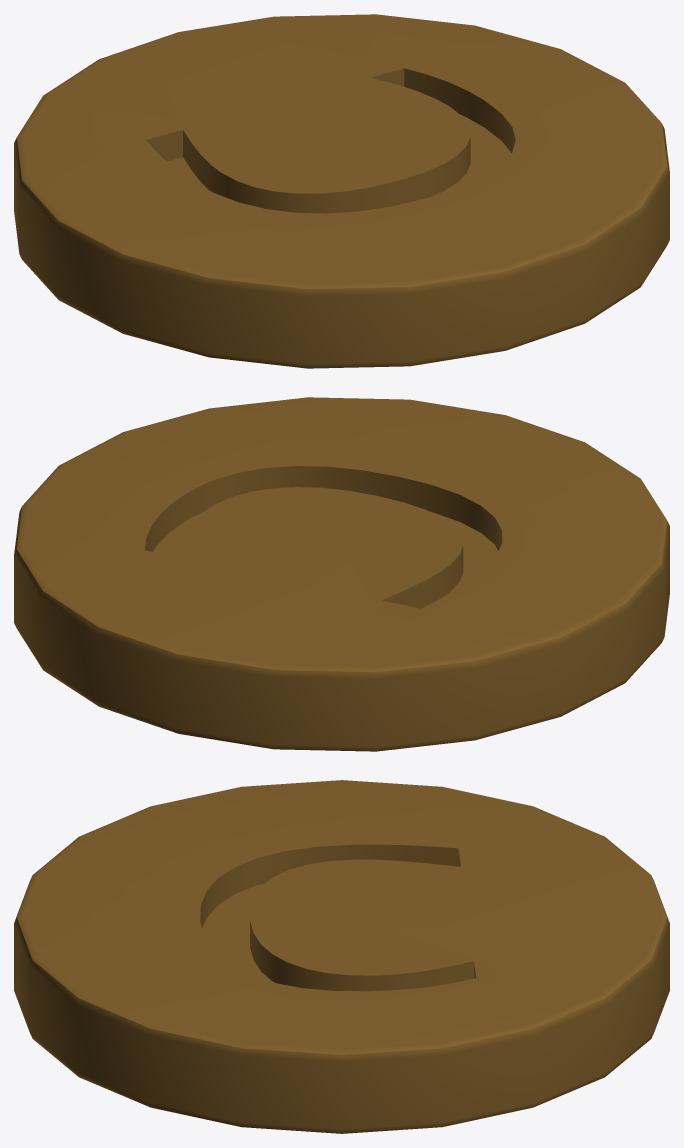
The model's file is coin.fbx.
The picture shows the model from 3 angles, top to bottom: view 1: azimuth 30°, elevation 25°; view 2: azimuth 150°, elevation 25°; view 3: azimuth 270°, elevation 25°; orthographic projection.
Visible parts, largest first — view 1: coin; view 2: coin; view 3: coin.
Part boxes in pixels (bbox=[...]): coin: bbox=[14, 14, 669, 368]; coin: bbox=[14, 397, 669, 751]; coin: bbox=[14, 780, 669, 1133].
Size of the model in its own units: 2 by 0.2819 by 2.
